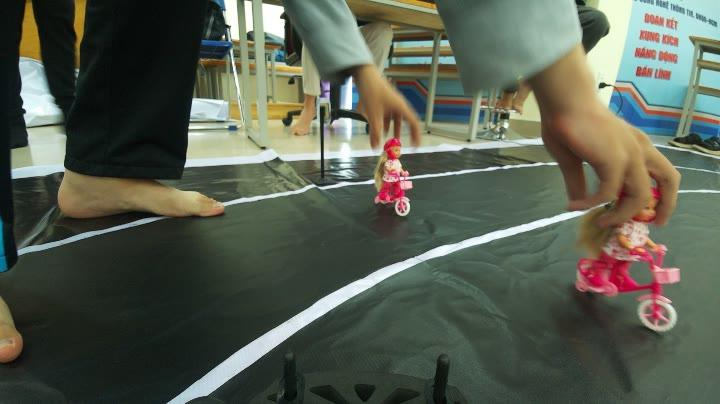pedestrian: (583, 184, 683, 332), (374, 132, 417, 212)
